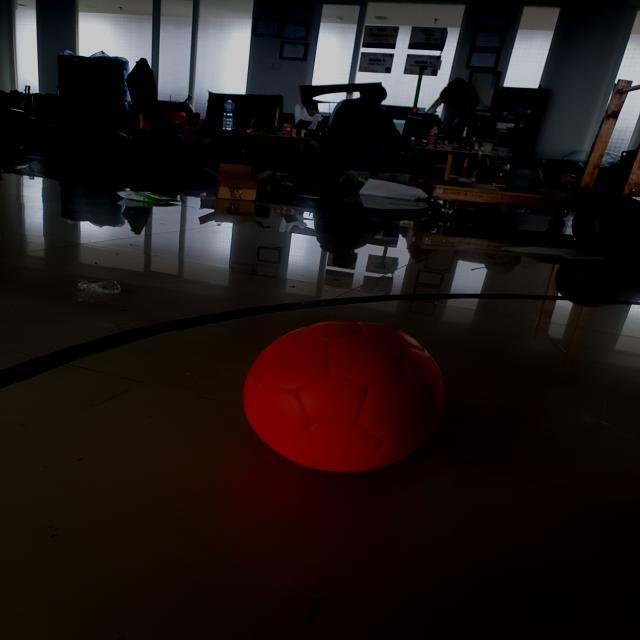bola: (230, 311, 474, 477)
